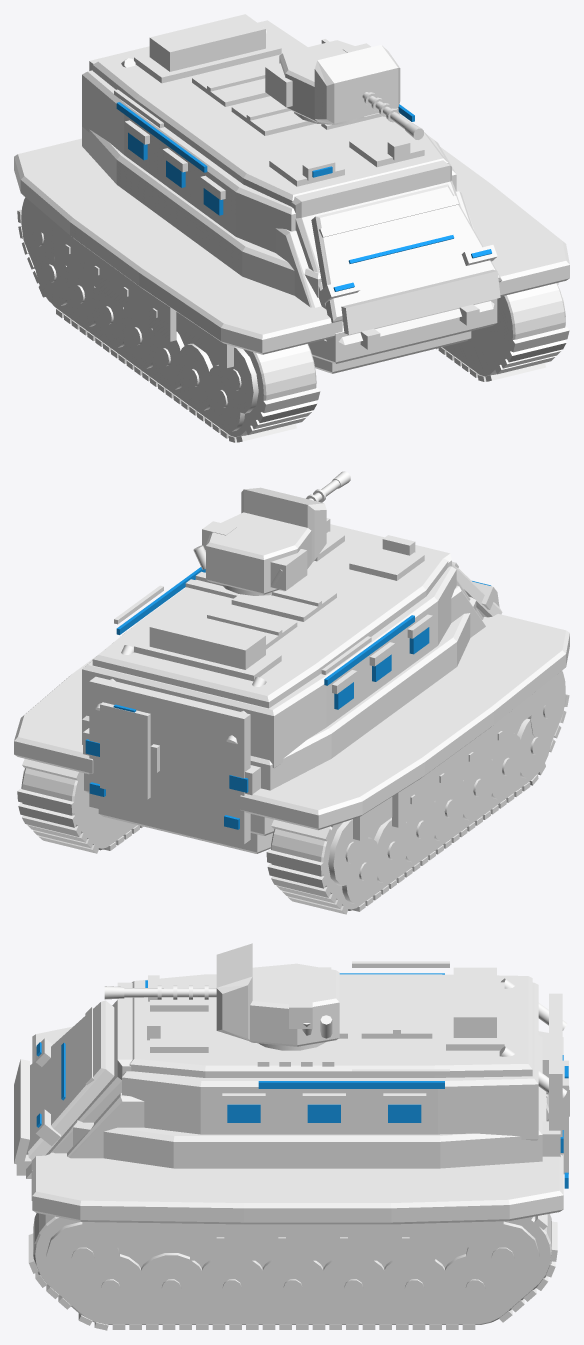
Rendered from drover-apc.obj.
The picture shows the model from 3 angles, top to bottom: view 1: azimuth 30°, elevation 25°; view 2: azimuth 150°, elevation 25°; view 3: azimuth 270°, elevation 25°; orthographic projection. The views are drawn at different scales.
Parts seen in each view (by area): view 1: track_guard, hull_deck, glacis_plate, track_belt, troop_box, hull_upper, bow_wedge, rws_shield, trim_vane, stow_bundle, applique_l, hull_chine (+26 smaller); view 2: track_guard, hull_deck, rear_ramp, troop_box, hull_upper, track_belt, rws_body, ramp_door, stow_bundle, applique_l, rws_shield, troop_hatch_0 (+28 smaller); view 3: track_guard, hull_deck, troop_box, hull_upper, applique_r, track_belt, glacis_plate, rws_body, guard_skirt, road_wheel_5, road_wheel_1, road_wheel_4 (+31 smaller).
Boxes of the visible parts, bbox=[...] form: track_guard: bbox=[14, 138, 569, 354]; hull_deck: bbox=[92, 20, 448, 206]; glacis_plate: bbox=[311, 184, 502, 322]; track_belt: bbox=[21, 197, 565, 437]; troop_box: bbox=[82, 70, 456, 252]; hull_upper: bbox=[82, 127, 321, 297]; bow_wedge: bbox=[291, 160, 494, 344]; rws_shield: bbox=[314, 45, 400, 123]; trim_vane: bbox=[341, 269, 500, 334]; stow_bundle: bbox=[149, 14, 265, 71]; applique_l: bbox=[55, 223, 176, 341]; hull_chine: bbox=[308, 298, 497, 363]; track_guard: bbox=[14, 614, 569, 830]; hull_deck: bbox=[92, 530, 448, 708]; rear_ramp: bbox=[89, 676, 250, 844]; troop_box: bbox=[82, 566, 456, 768]; hull_upper: bbox=[82, 597, 476, 790]; track_belt: bbox=[21, 671, 565, 910]; rws_body: bbox=[206, 512, 311, 594]; ramp_door: bbox=[100, 702, 150, 799]; stow_bundle: bbox=[149, 612, 265, 669]; applique_l: bbox=[392, 709, 513, 827]; rws_shield: bbox=[241, 487, 326, 562]; troop_hatch_0: bbox=[231, 583, 336, 621]; track_guard: bbox=[32, 1026, 563, 1224]; hull_deck: bbox=[129, 974, 532, 1077]; troop_box: bbox=[122, 982, 538, 1140]; hull_upper: bbox=[73, 1035, 542, 1168]; applique_r: bbox=[190, 1223, 435, 1260]; track_belt: bbox=[33, 1094, 551, 1324]; glacis_plate: bbox=[28, 1000, 114, 1159]; rws_body: bbox=[248, 963, 339, 1046]; guard_skirt: bbox=[82, 1221, 503, 1247]; road_wheel_5: bbox=[135, 1253, 207, 1319]; road_wheel_1: bbox=[378, 1259, 450, 1319]; road_wheel_4: bbox=[196, 1260, 268, 1319].
Size of the model in its own units: 4.44 by 3.5 by 5.67.
